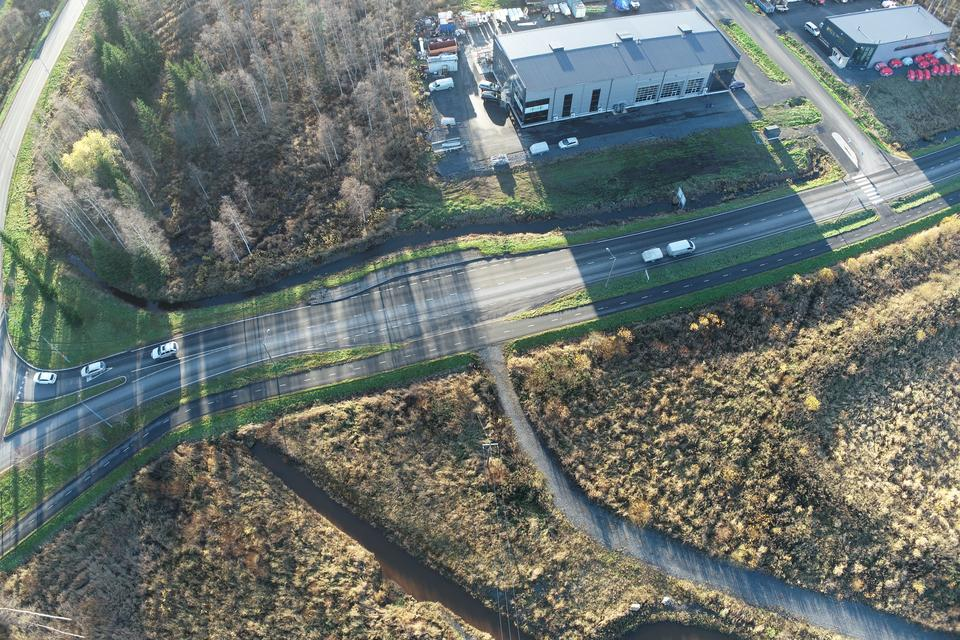intersection: (432, 235, 552, 398), (818, 139, 939, 291)
roundabout: (0, 268, 89, 489)
